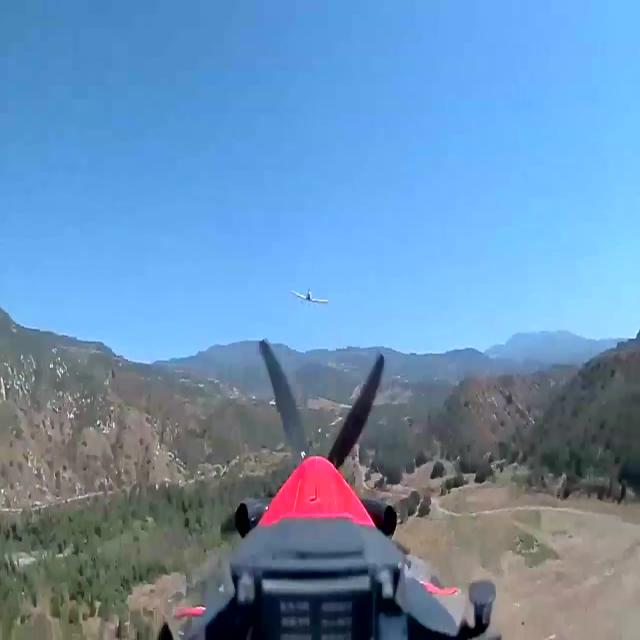iha: (288, 287, 328, 310)
